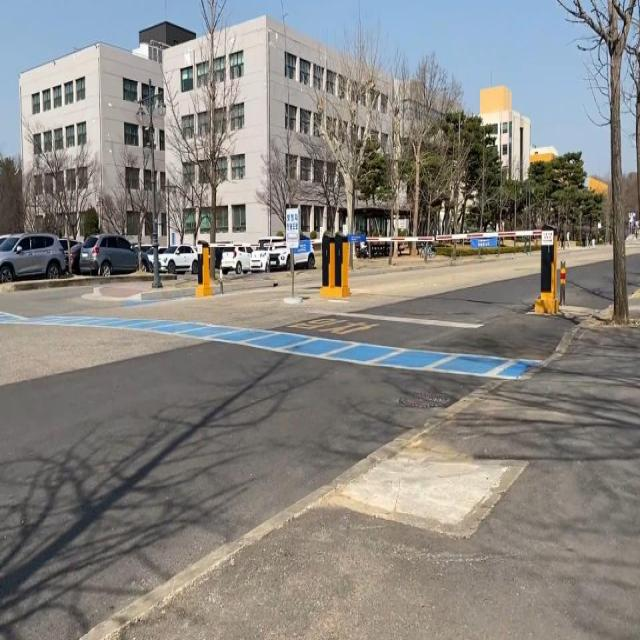sidewalk: (79, 289, 640, 640)
